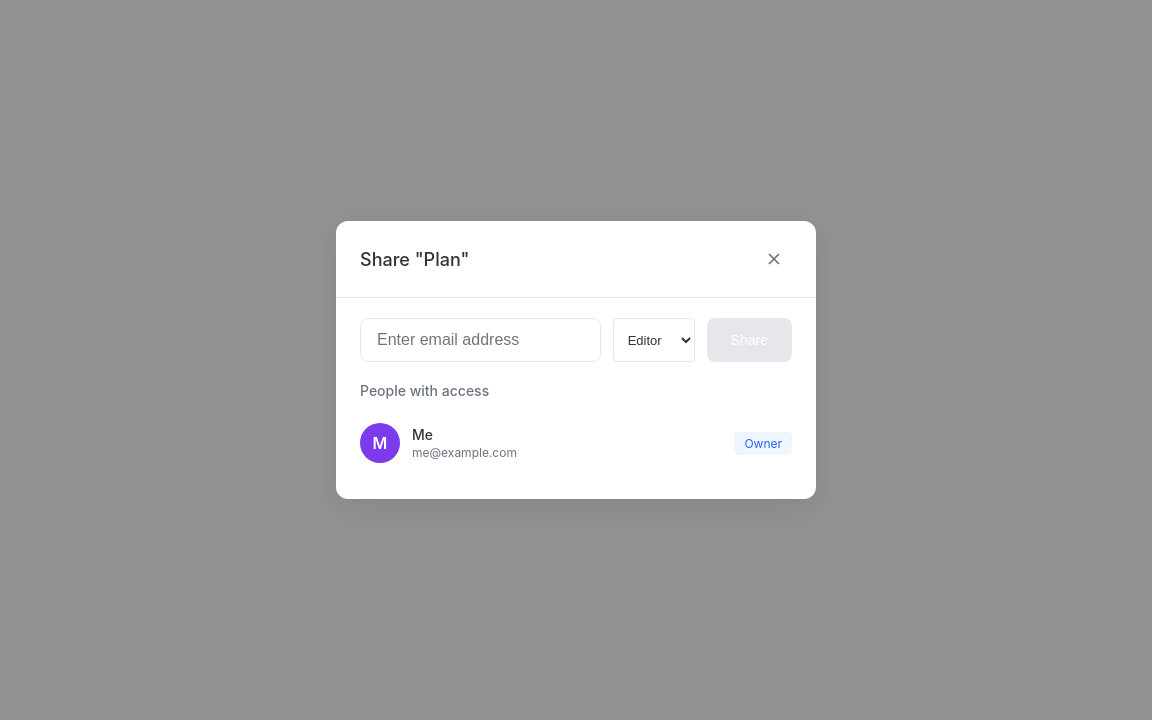
ShareDialog invite note › team mode: unchanged text
Expected: the heading "People with access" is shown, [360,382,489,399]
Type "friend@example.com" into the field with placeholder "Enter email address" at (480, 340), box [360,318,601,362]
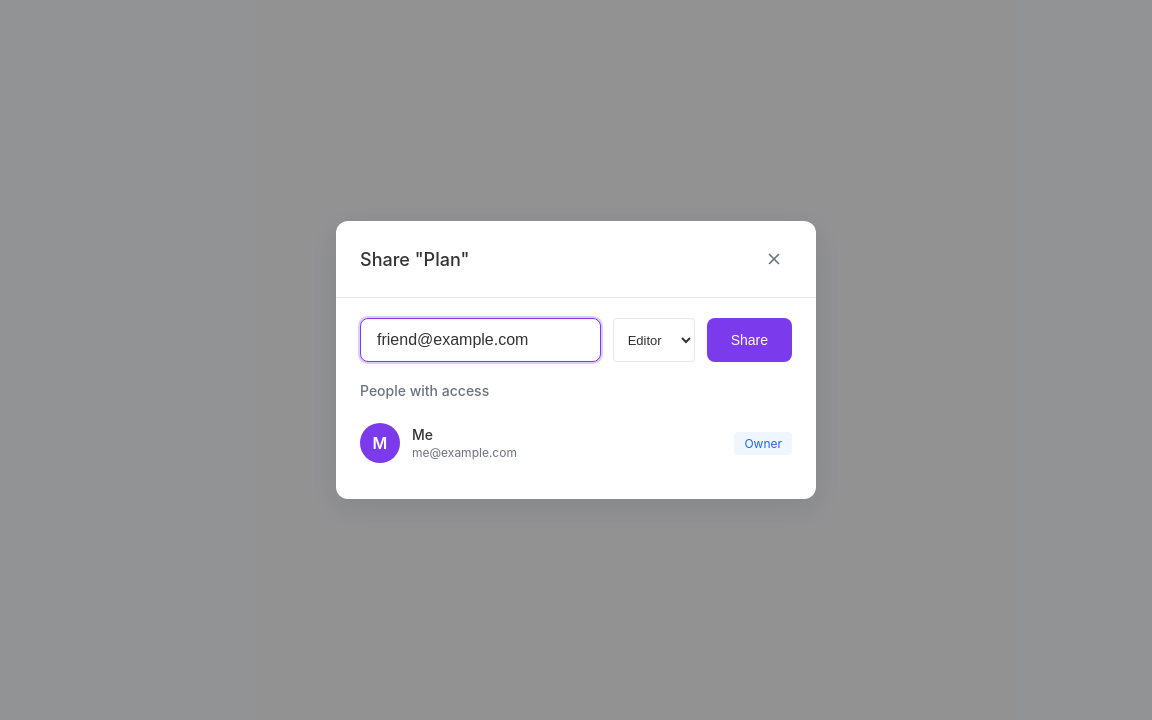
Press Enter
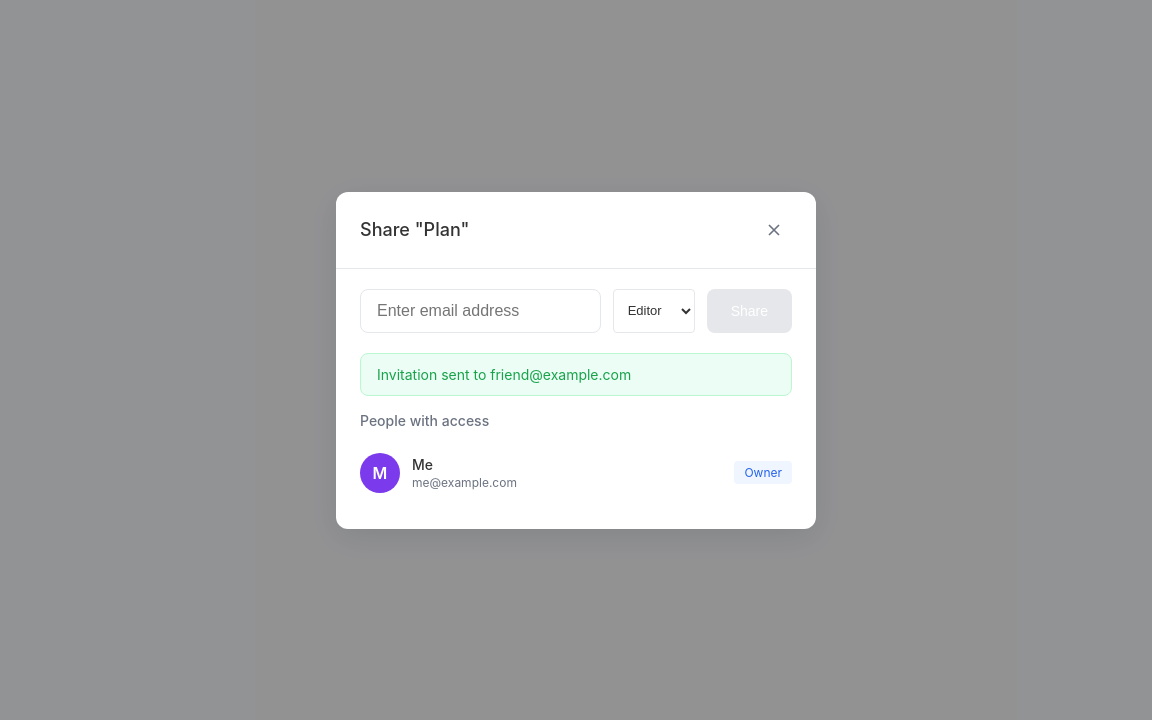
Expected: the text "Invitation sent to friend@example.com" is shown, [360,352,792,396]
